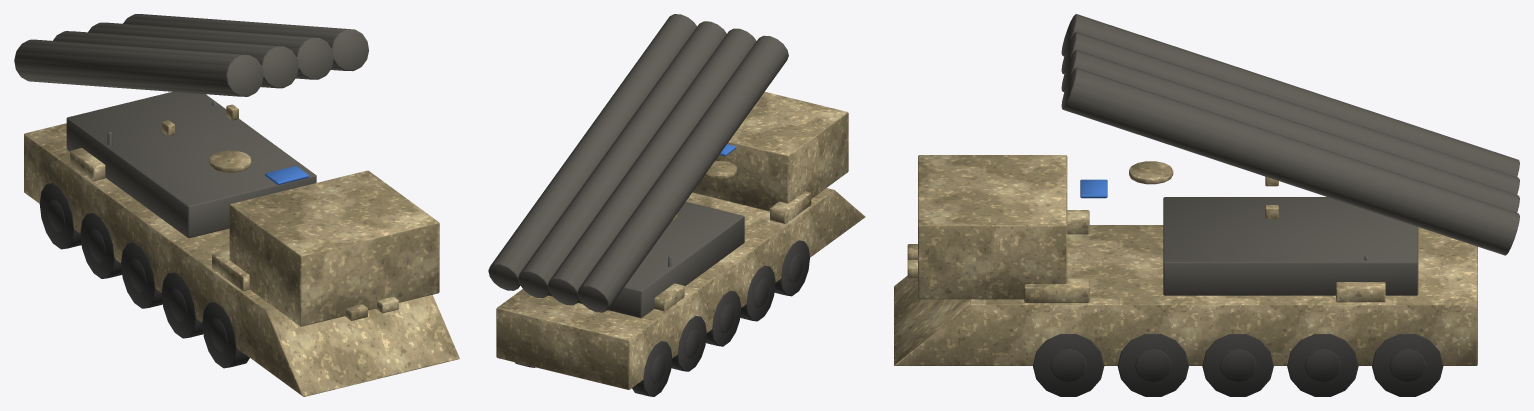
File: aad_e4_us_longsam_LOD0.glb
3 renders of one model, left to right at view 1: azimuth 30°, elevation 25°; view 2: azimuth 150°, elevation 25°; view 3: azimuth 270°, elevation 25°, orthographic. The views are drawn at different scales.
Visible parts, largest first — view 1: aad_e4_us_longsam_LOD0_body, aad_e4_us_longsam_LOD0_deck, aad_e4_us_longsam_LOD0_track, aad_e4_us_longsam_LOD0_team; view 2: aad_e4_us_longsam_LOD0_deck, aad_e4_us_longsam_LOD0_body, aad_e4_us_longsam_LOD0_track; view 3: aad_e4_us_longsam_LOD0_deck, aad_e4_us_longsam_LOD0_body, aad_e4_us_longsam_LOD0_track, aad_e4_us_longsam_LOD0_team.
Boxes of the visible parts, bbox=[...] form: aad_e4_us_longsam_LOD0_body: bbox=[24, 104, 459, 396]; aad_e4_us_longsam_LOD0_deck: bbox=[14, 14, 368, 238]; aad_e4_us_longsam_LOD0_track: bbox=[39, 183, 249, 368]; aad_e4_us_longsam_LOD0_team: bbox=[265, 166, 308, 184]; aad_e4_us_longsam_LOD0_deck: bbox=[488, 14, 788, 317]; aad_e4_us_longsam_LOD0_body: bbox=[496, 92, 865, 389]; aad_e4_us_longsam_LOD0_track: bbox=[515, 240, 809, 396]; aad_e4_us_longsam_LOD0_deck: bbox=[1061, 14, 1519, 295]; aad_e4_us_longsam_LOD0_body: bbox=[894, 155, 1477, 365]; aad_e4_us_longsam_LOD0_track: bbox=[1033, 334, 1443, 396]; aad_e4_us_longsam_LOD0_team: bbox=[1080, 179, 1107, 198].
Size of the model in its own units: 3.09 by 5.57 by 10.06.
5 materials, 1 textured.
